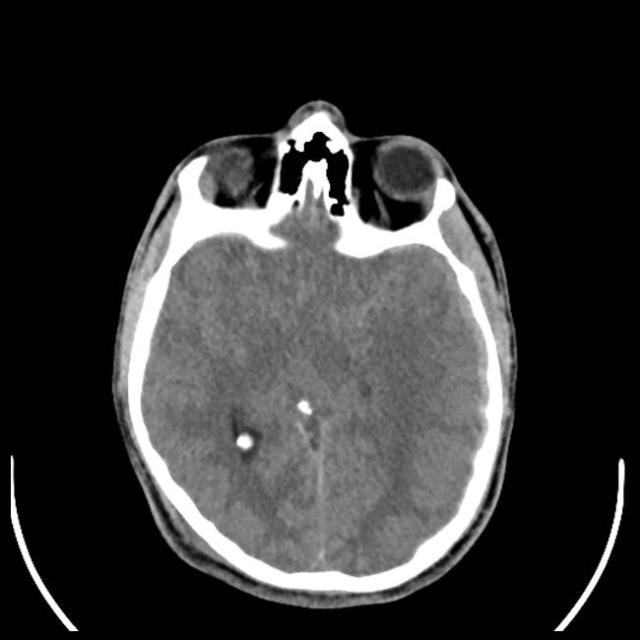lesion: (107, 96, 522, 606)
